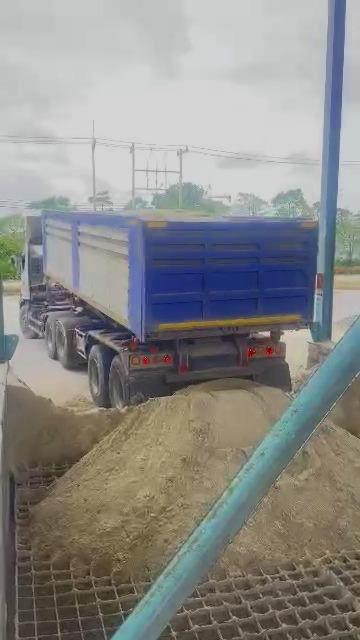sand: (32, 381, 288, 577), (222, 423, 360, 568), (6, 385, 122, 471), (330, 375, 360, 437), (122, 209, 231, 221), (294, 364, 319, 394)
